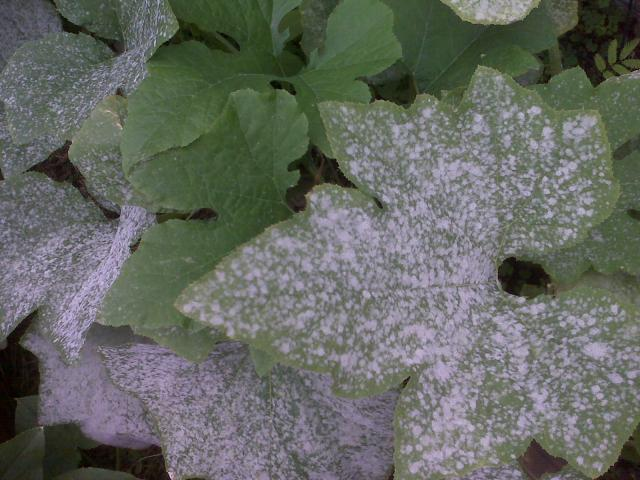Squash Powdery mildew leaf: (161, 60, 640, 466), (97, 324, 401, 480), (1, 8, 190, 171), (1, 160, 150, 346)
